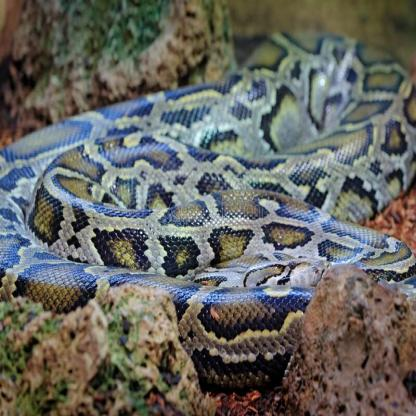snakes: (8, 33, 416, 375)
